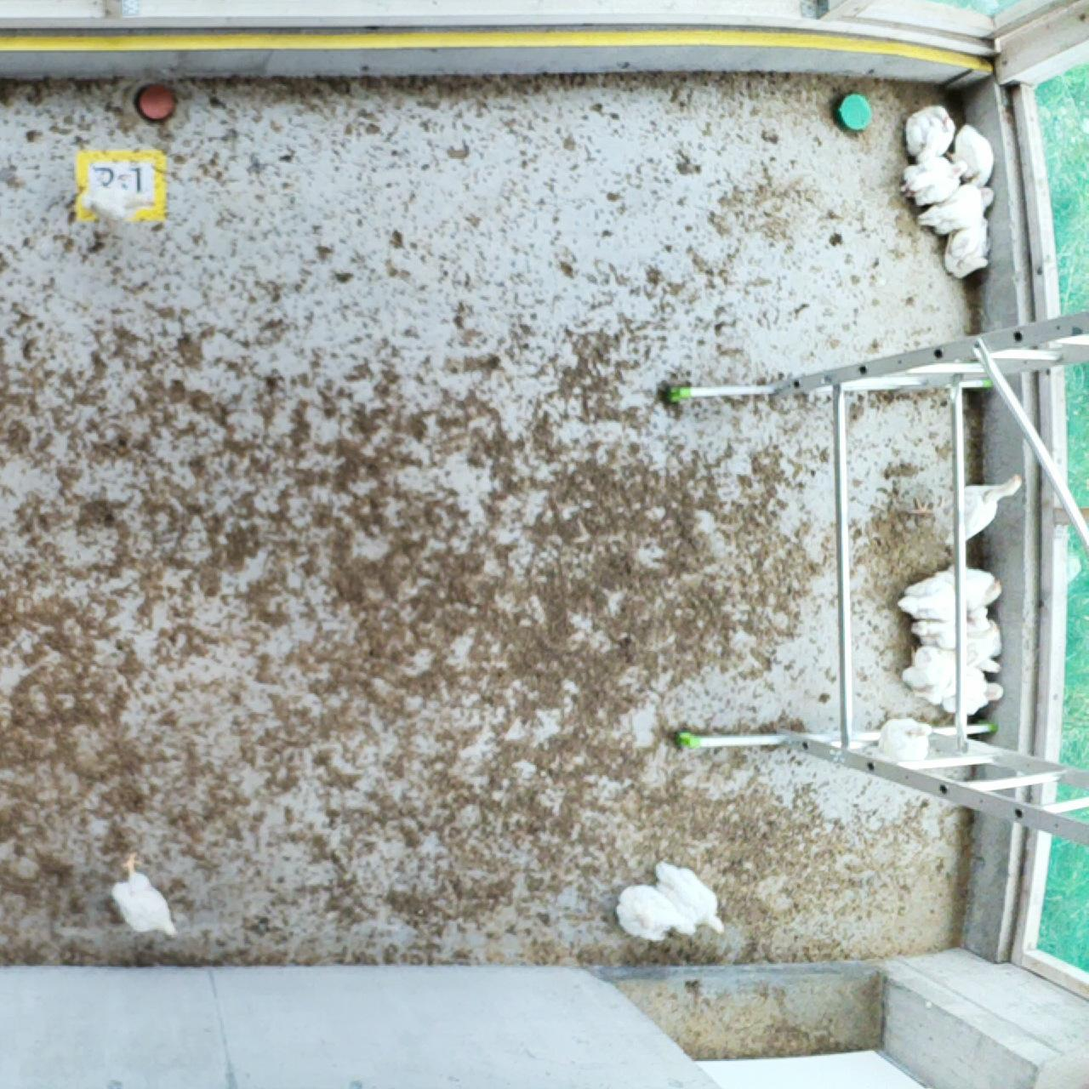chicken: (907, 476, 1023, 548), (105, 855, 179, 939), (657, 864, 730, 934), (616, 884, 696, 944), (938, 220, 998, 288), (84, 180, 157, 234), (920, 185, 998, 231), (950, 567, 1001, 636), (872, 716, 932, 766), (906, 657, 963, 706), (950, 670, 1003, 722), (900, 574, 955, 624), (948, 124, 992, 186), (907, 155, 956, 206), (962, 628, 1005, 685), (906, 107, 957, 154), (921, 618, 959, 650)
